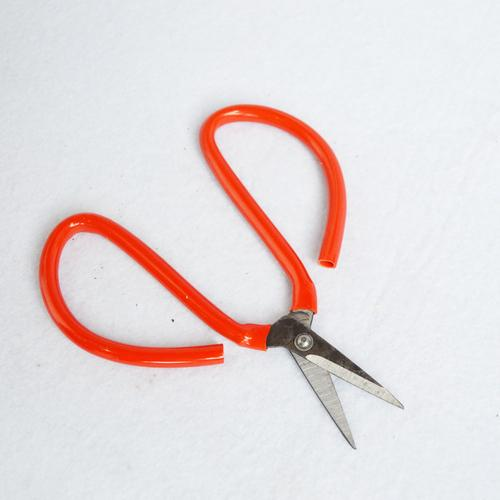scissor: (37, 102, 408, 450)
